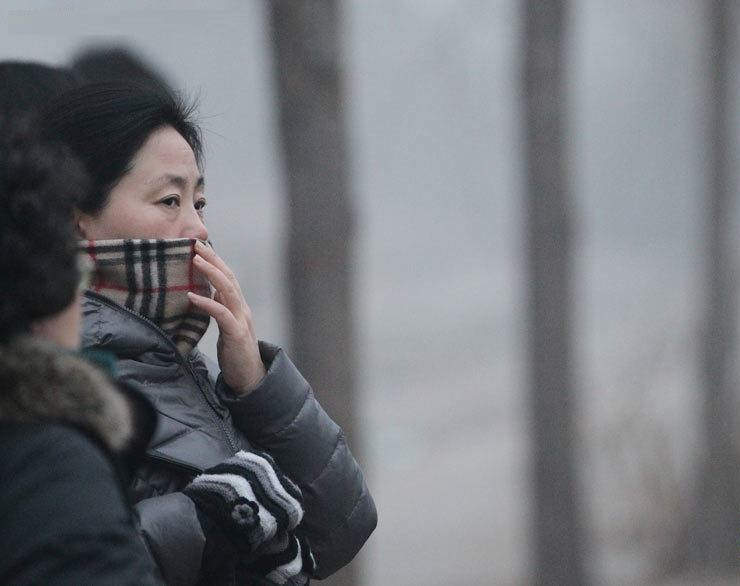face_mask: (80, 121, 212, 329)
